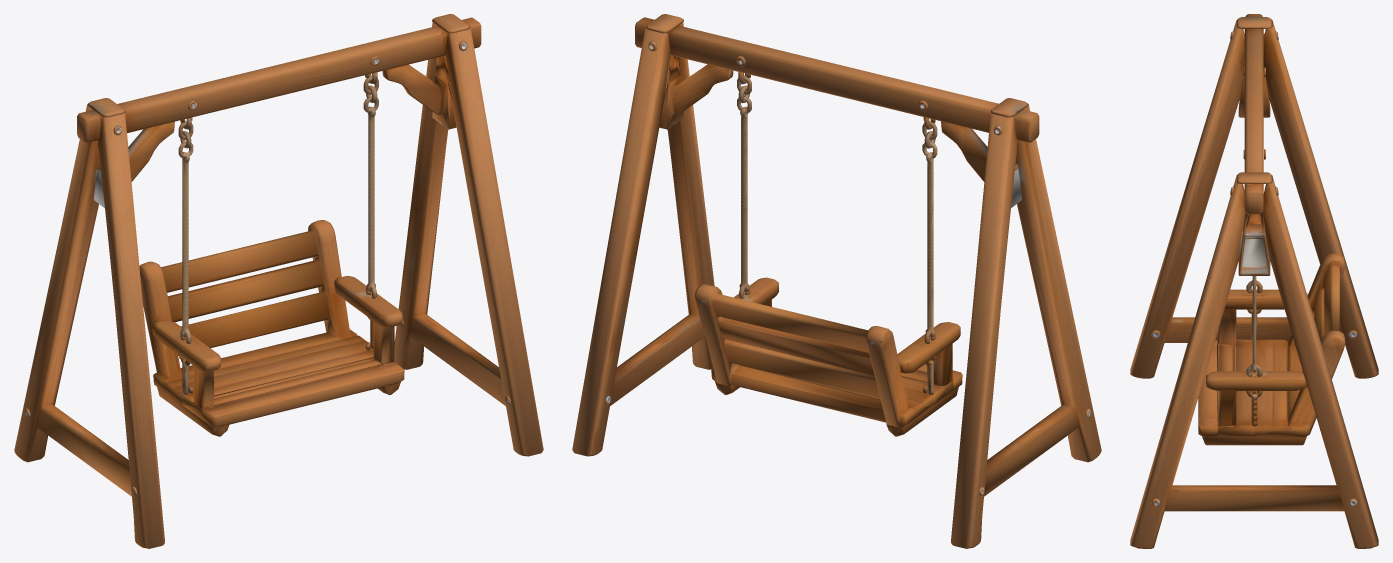
Rendered from a_wooden_swing_set_8149ef92_v2.glb.
The picture shows the model from 3 angles, left to right: view 1: azimuth 30°, elevation 25°; view 2: azimuth 150°, elevation 25°; view 3: azimuth 270°, elevation 25°; orthographic projection. The views are drawn at different scales.
Parts seen in each view (by area): view 1: material; view 2: material; view 3: material.
Boxes of the visible parts, x1,y1,x2,y2 form: material: (14,14,543,548); material: (572,14,1101,548); material: (1130,14,1378,548).
Size of the model in its own units: 1.9 by 1.78 by 1.11.
1 material, 1 textured.
